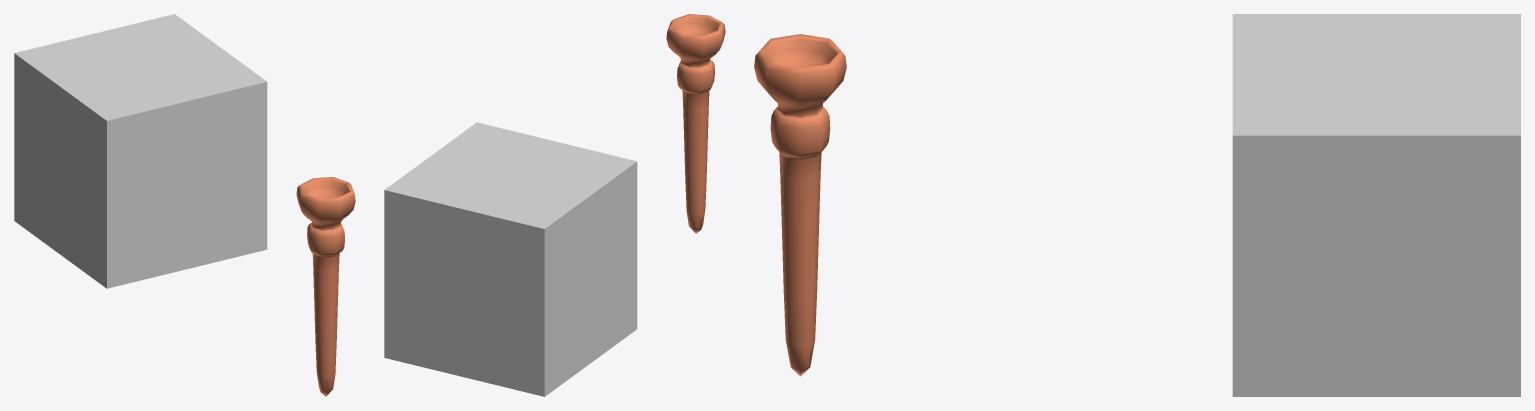
Rendered from lantern.glb.
3 views of the same model, side by side, from view 1: azimuth 30°, elevation 25°; view 2: azimuth 150°, elevation 25°; view 3: azimuth 270°, elevation 25° (orthographic). The views are drawn at different scales.
Visible parts, largest first — view 1: NoImport, Torch; view 2: NoImport, Torch; view 3: NoImport, Torch.
Part boxes in pixels (x1,y1,x2,y2): NoImport: [14, 14, 267, 288]; Torch: [296, 177, 355, 396]; NoImport: [384, 122, 637, 396]; Torch: [666, 14, 725, 233]; NoImport: [1232, 14, 1520, 396]; Torch: [754, 34, 846, 376].
Size of what is drawn, in the model's own units: 0.5 by 0.623 by 1.33.
